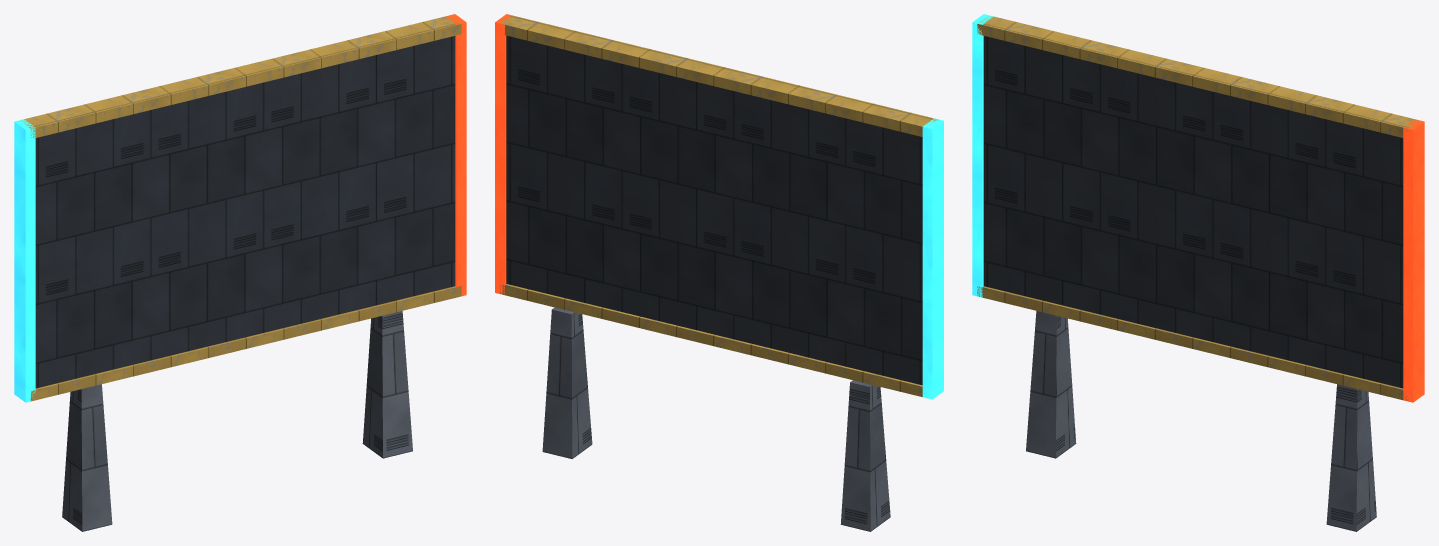
Rendered from env_screen.glb.
3 renders of one model, left to right at view 1: azimuth 30°, elevation 25°; view 2: azimuth 150°, elevation 25°; view 3: azimuth 330°, elevation 25°, orthographic.
Visible parts, largest first — view 1: env_screen; view 2: env_screen; view 3: env_screen.
Boxes of the visible parts, left/top/right/bottom form: env_screen: left=14, top=14, right=466, bottom=531; env_screen: left=495, top=14, right=943, bottom=531; env_screen: left=972, top=14, right=1424, bottom=531.
Size of the model in its own units: 17.6 by 15.8 by 1.4.
Materials: 5 (5 with a texture image).
